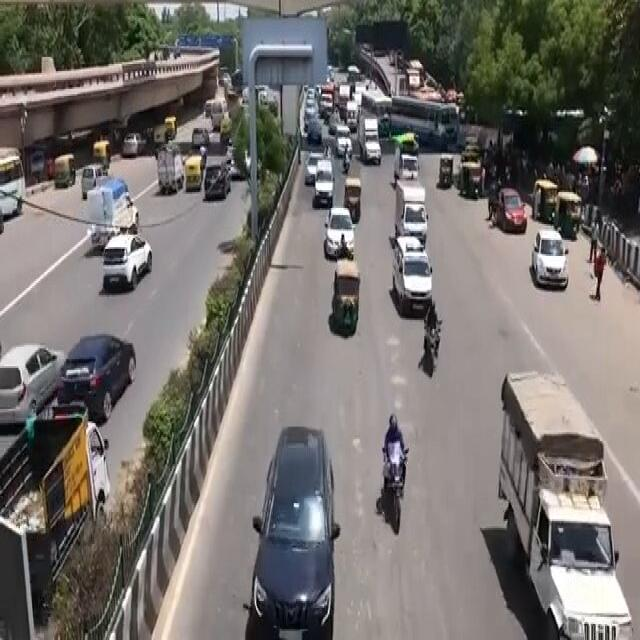three_wheeler: (320, 254, 366, 347)
